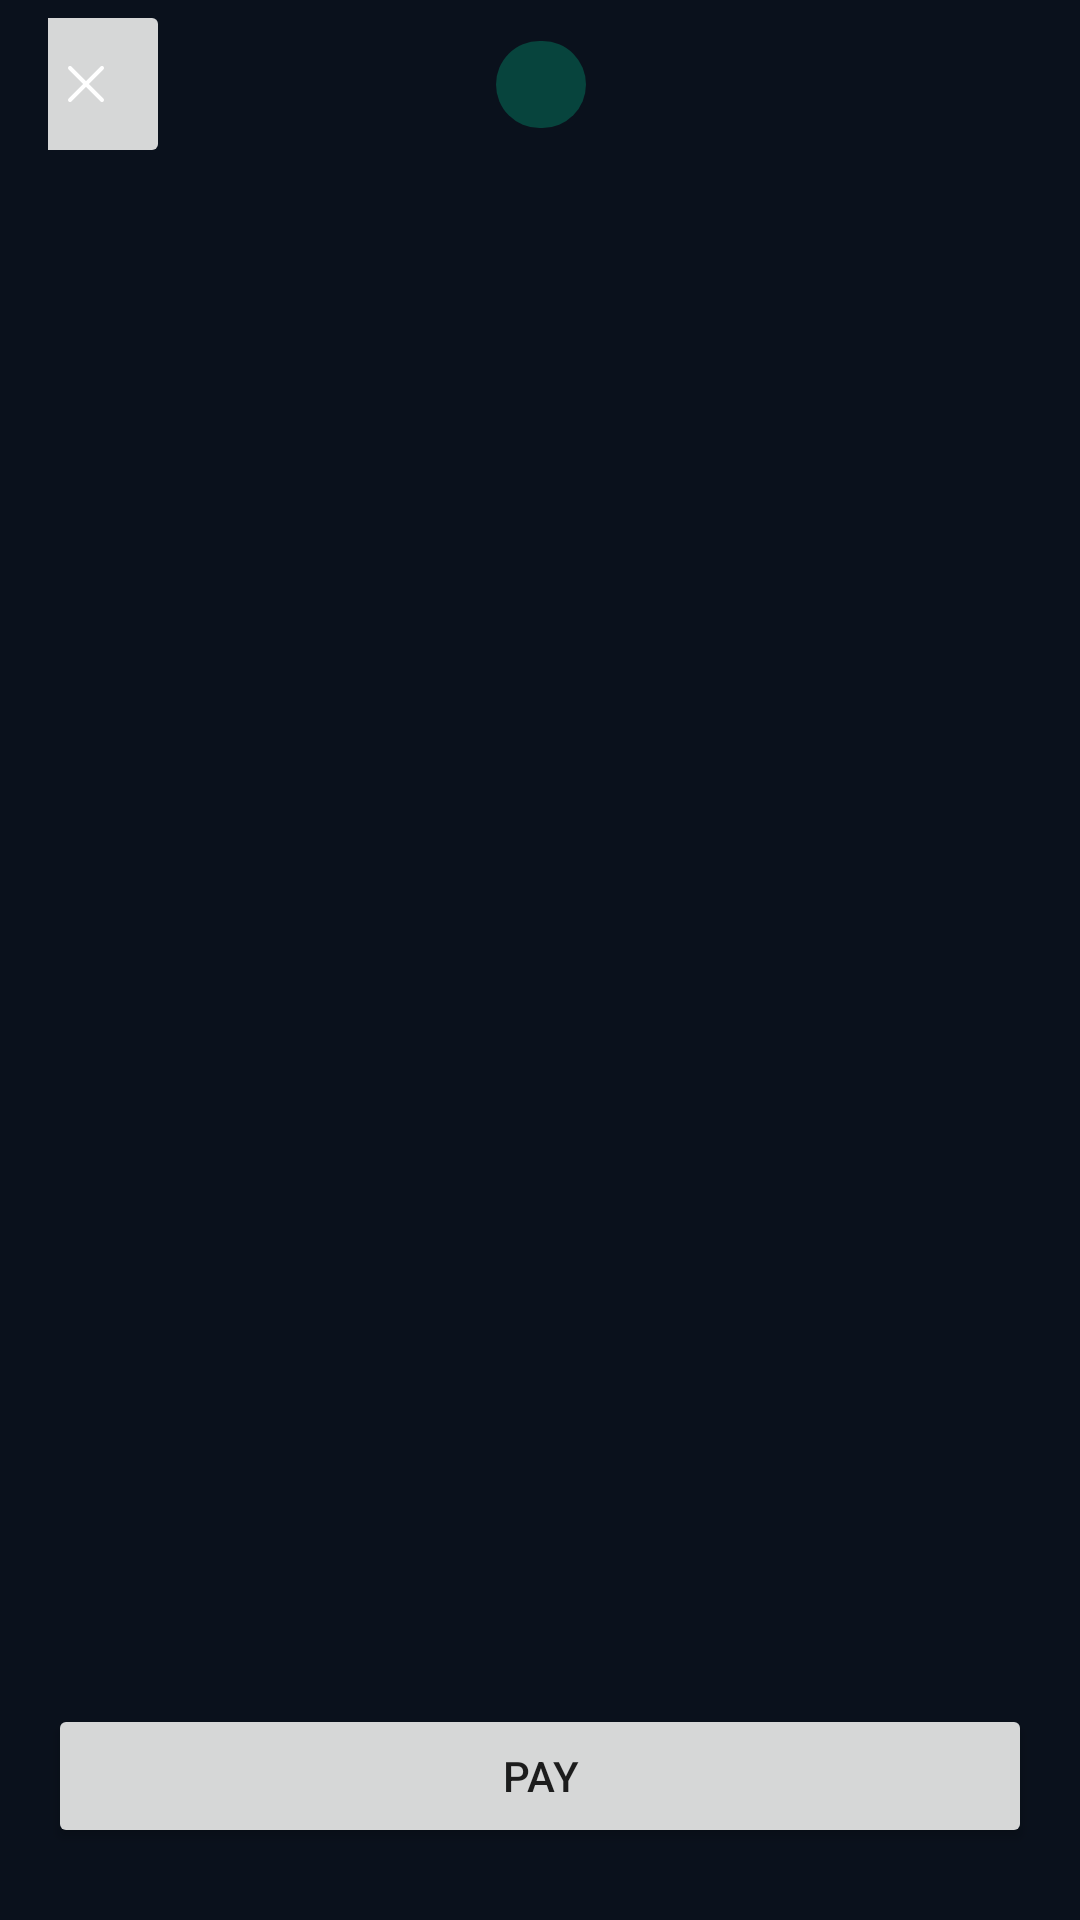

Where to tap for icons on this 1080 × 1920 app screen, as point (x, y):
close: point (103, 84)
